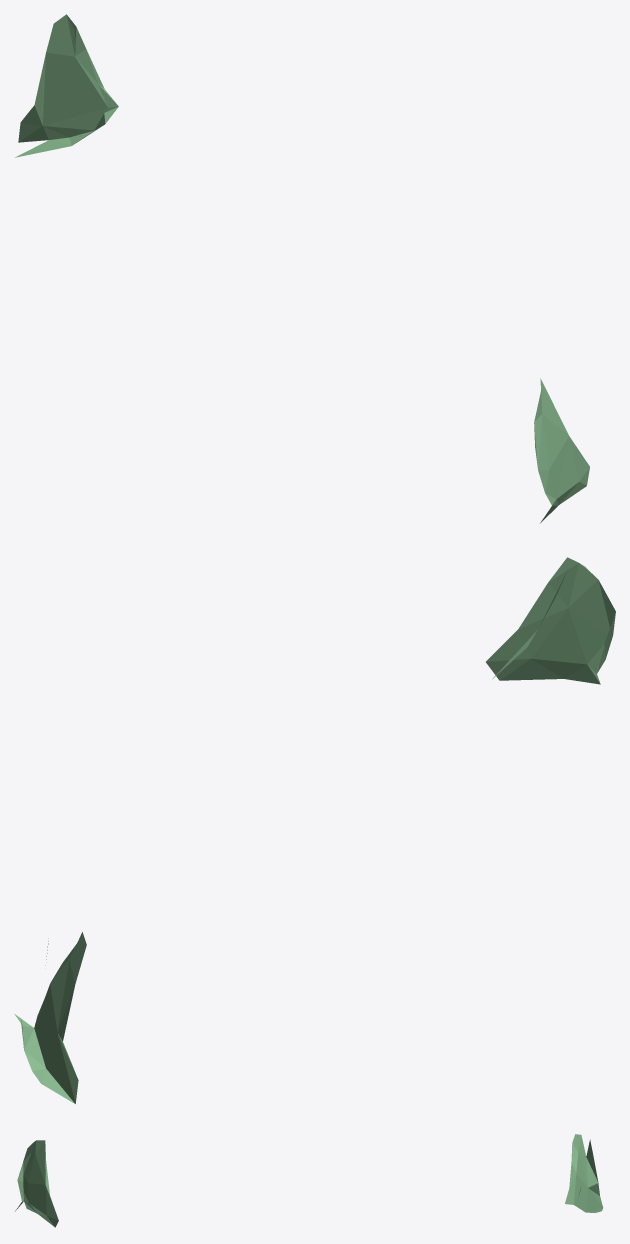
3 views of the same model, one above another, from view 1: azimuth 30°, elevation 25°; view 2: azimuth 150°, elevation 25°; view 3: azimuth 270°, elevation 25° (orthographic). The views are drawn at different scales.
Parts seen in each view (by area): view 1: 1081.obj; view 2: 1081.obj; view 3: 1081.obj.
Boxes of the visible parts, x1,y1,x2,y2 form: 1081.obj: [15, 14, 589, 523]; 1081.obj: [14, 557, 615, 1103]; 1081.obj: [15, 1134, 603, 1227].
Bounding box in the file's own units: 205 × 265 × 1756.
